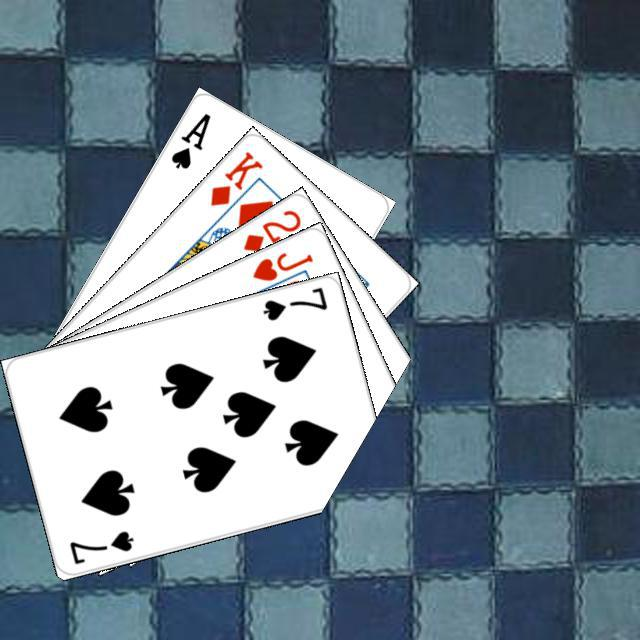2d: (237, 204, 303, 254)
7s: (64, 525, 136, 566), (258, 282, 329, 323)
As: (166, 108, 213, 171)
Jh: (247, 247, 315, 283)
Kd: (205, 146, 265, 208)
